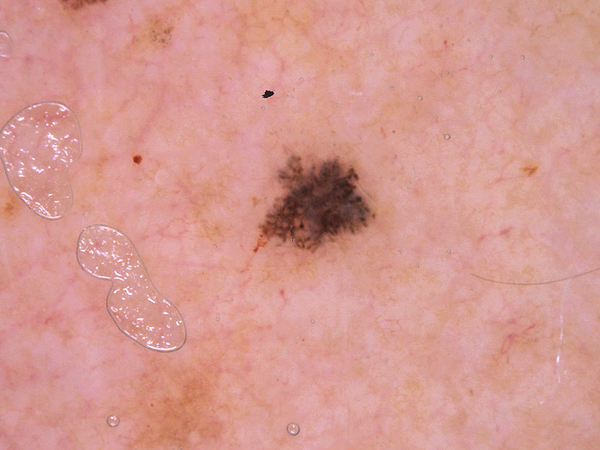Detected Lesion: (252, 149, 380, 268)
